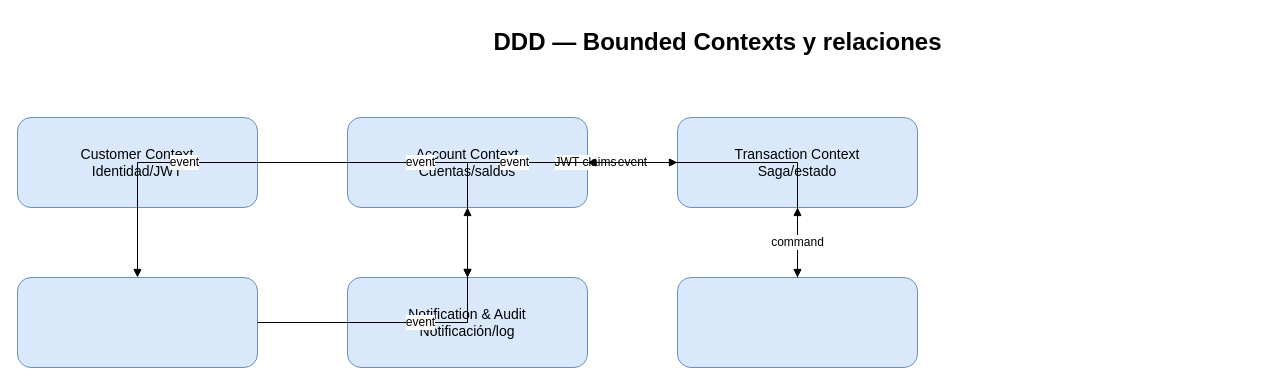
Some shapes in this 1285 by 385 pixel diagram are drawn without their labels. The box of each missing label's shape, as (x1, y1, x2, y2) in pixels:
Gateway Entrada/políticas: (676, 276, 918, 368)
Payment Context Validación pago: (16, 276, 258, 368)
